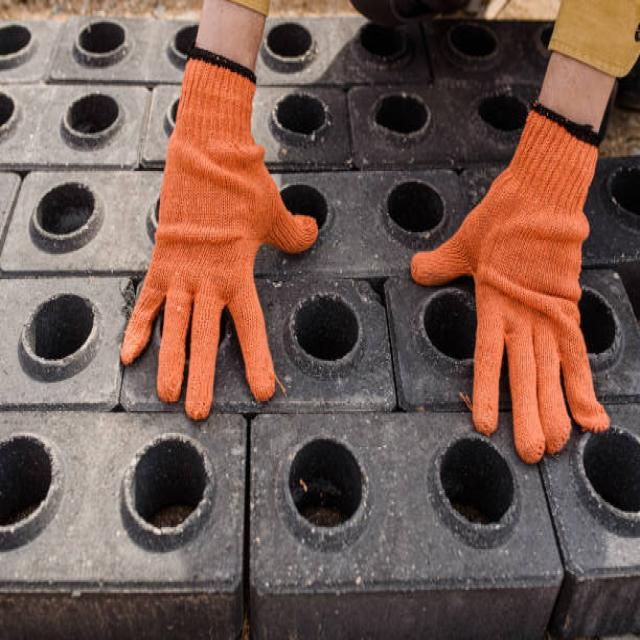Gloves: (117, 41, 322, 429), (407, 98, 618, 474)
